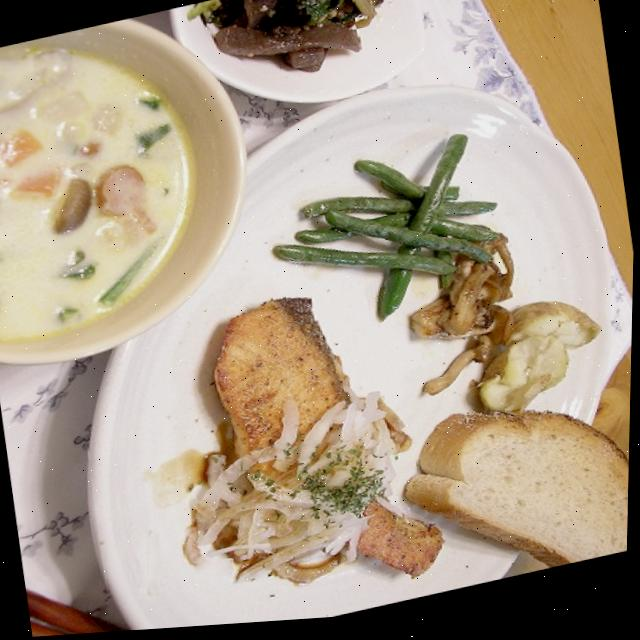熟制海鲜: (177, 260, 458, 630)
